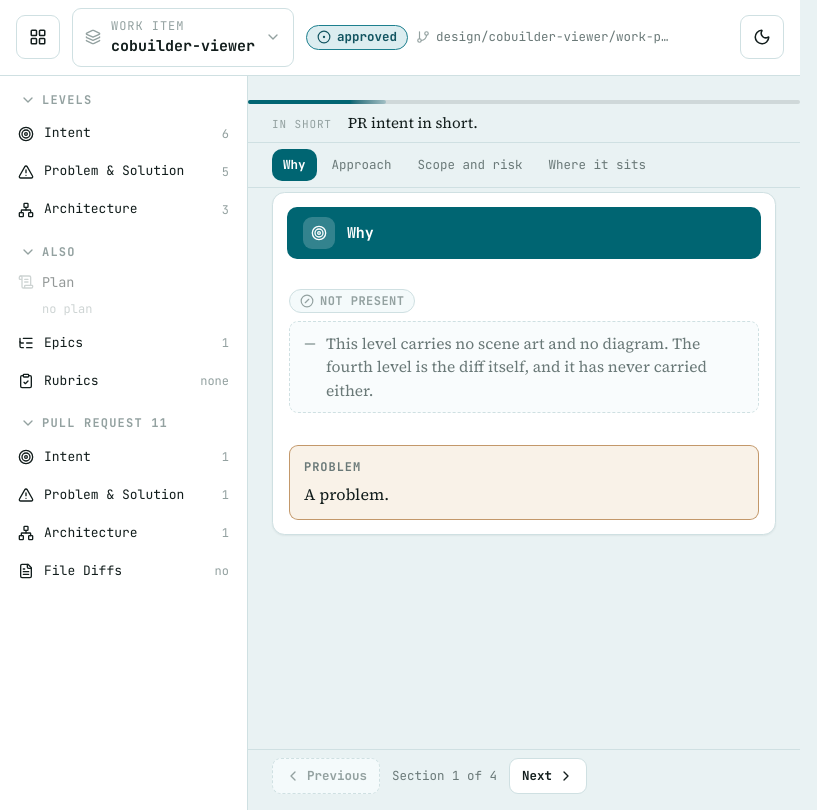
Test: In Short on the pull request › shows the level's narration, and keeps it when the section changes
The image size is (817, 810).
Expected: the element "In Short" shows "PR intent in short.", [348,112,478,132]
Expected: the text "In Short" is shown, [272,116,332,132]
Click the button "Next" at (548, 776), box [509,758,587,794]
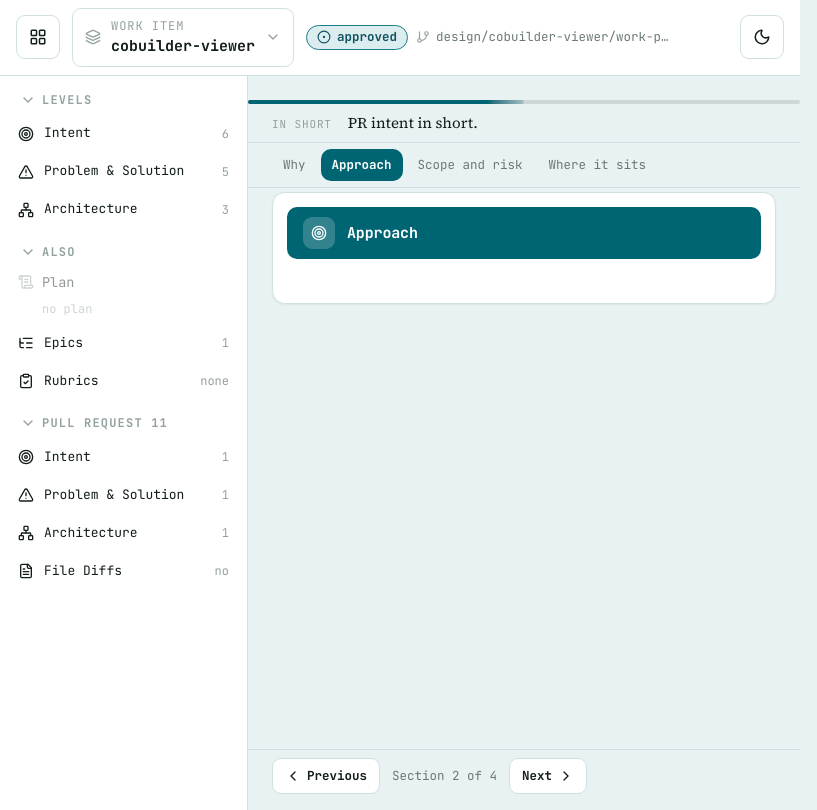
Expected: the text "Section 2 of 4" is shown, [392,767,497,785]
Expected: the text "PR intent in short." is shown once, [348,112,478,132]
